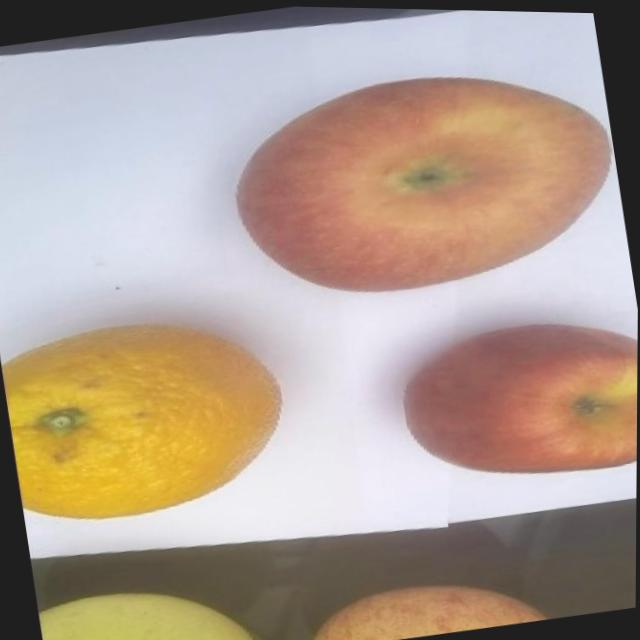Apple: (219, 42, 629, 316), (393, 300, 638, 495), (300, 561, 548, 640)
Orange: (0, 297, 298, 534)
